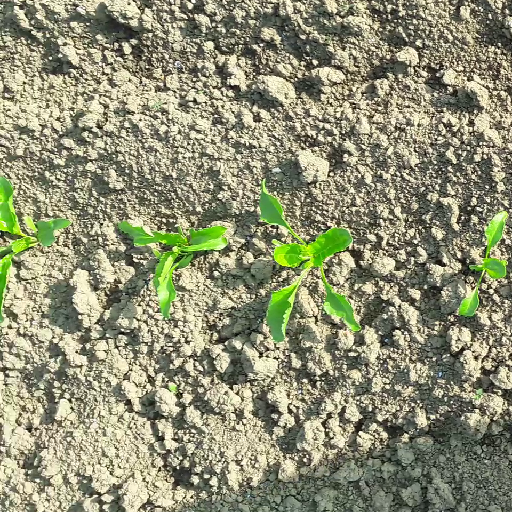sugarbeet: (256, 177, 370, 341), (112, 214, 232, 325), (1, 170, 75, 321), (452, 211, 512, 316)
weed: (466, 385, 488, 403), (166, 383, 180, 395)
